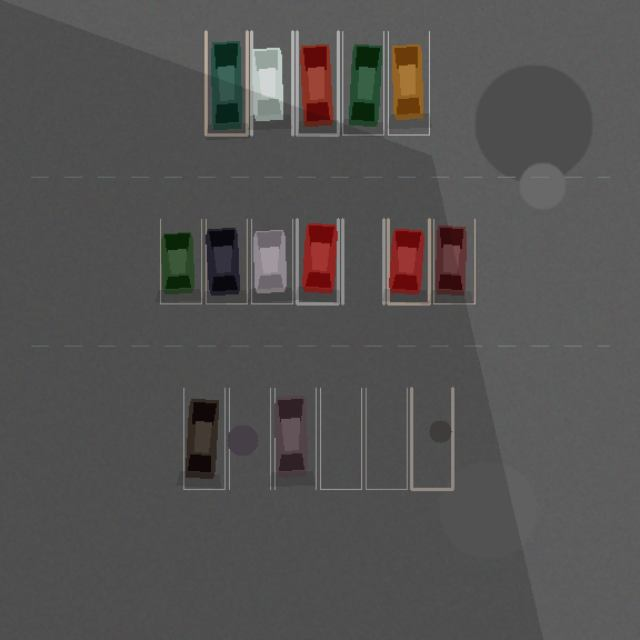space-empty: (229, 388, 270, 489), (320, 388, 361, 489), (366, 388, 407, 489), (411, 388, 452, 489), (342, 219, 383, 303)
space-occupied: (274, 388, 316, 489), (206, 31, 247, 134), (251, 31, 292, 134), (297, 31, 338, 134), (342, 31, 383, 134), (388, 31, 429, 134), (183, 388, 224, 489), (160, 219, 201, 303), (206, 219, 247, 303), (251, 219, 292, 303), (297, 219, 338, 303), (388, 219, 429, 303), (433, 219, 474, 303)
